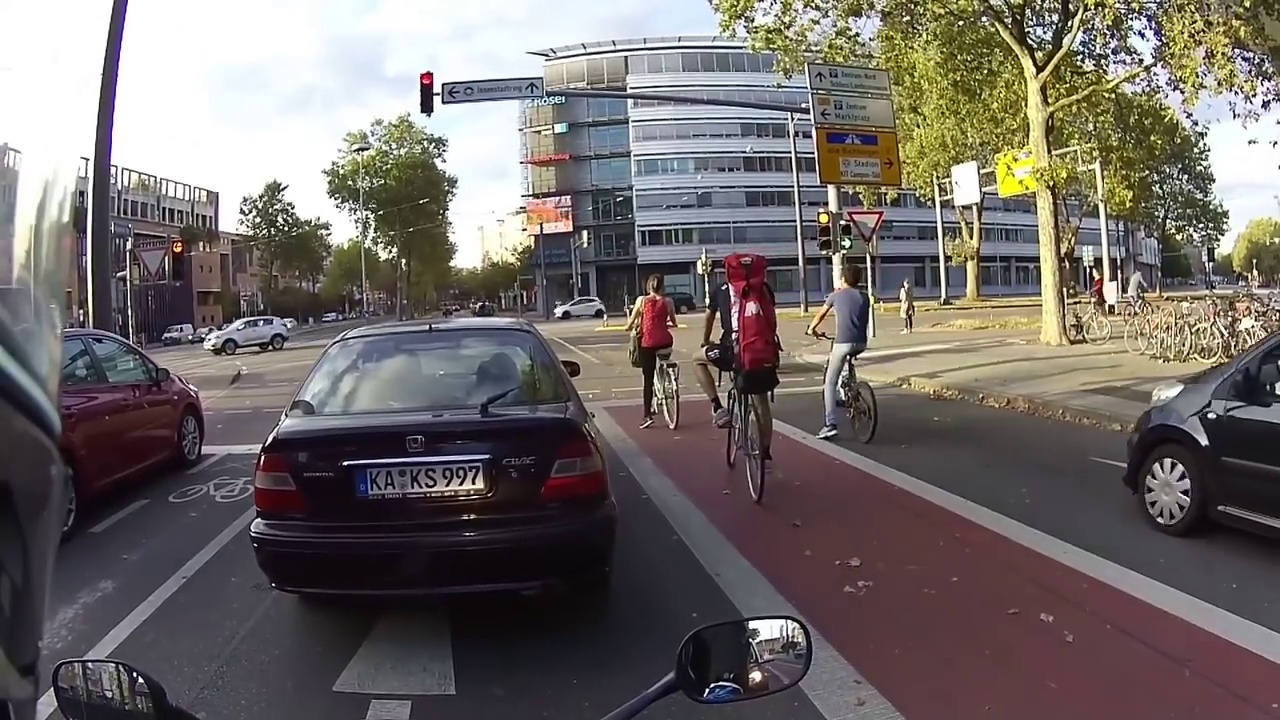cyclist_back: (700, 251, 788, 517), (816, 260, 889, 459), (621, 267, 691, 441)
